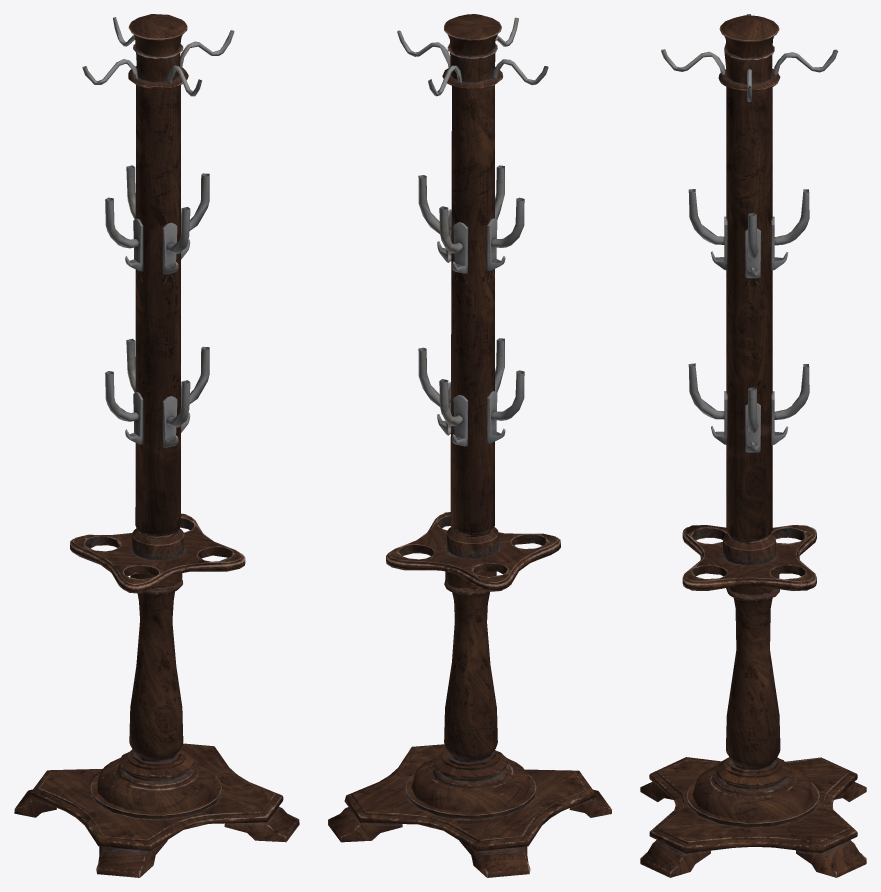
Rendered from SM_ClothHangar2rack.fbx.
The picture shows the model from 3 angles, left to right: view 1: azimuth 30°, elevation 25°; view 2: azimuth 150°, elevation 25°; view 3: azimuth 270°, elevation 25°; orthographic projection.
Parts seen in each view (by area): view 1: SM_ClothHangar2rack_LOD0; view 2: SM_ClothHangar2rack_LOD0; view 3: SM_ClothHangar2rack_LOD0.
Boxes of the visible parts, left/top/right/bottom form: SM_ClothHangar2rack_LOD0: left=14, top=14, right=299, bottom=877; SM_ClothHangar2rack_LOD0: left=328, top=14, right=611, bottom=877; SM_ClothHangar2rack_LOD0: left=640, top=14, right=866, bottom=877.
Bounding box in the file's own units: 88.84 × 85.21 × 335.
1 material, 1 textured.
